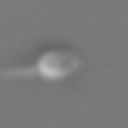normal: (1, 62, 37, 84)
